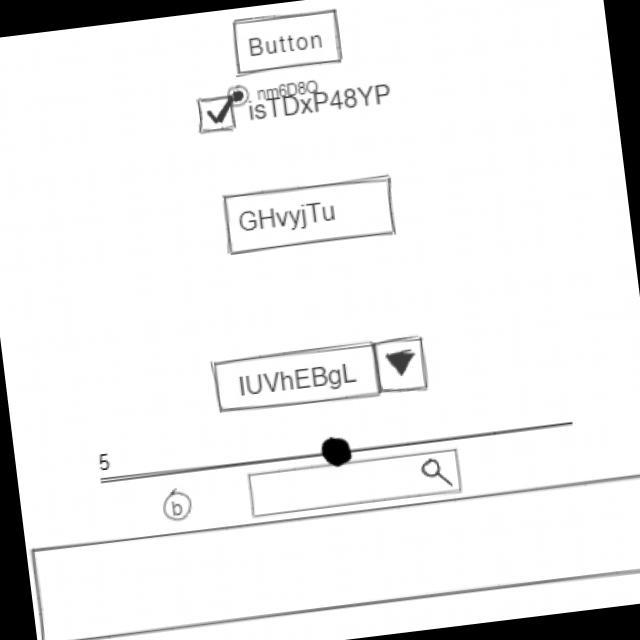button: (228, 3, 348, 78)
checkbox: (192, 72, 396, 138)
container: (26, 466, 640, 640)
icon-button: (160, 486, 194, 524)
input: (219, 172, 403, 258)
radio: (225, 72, 322, 106)
search: (243, 444, 465, 521)
select: (210, 329, 432, 419)
slider: (114, 406, 578, 494)
